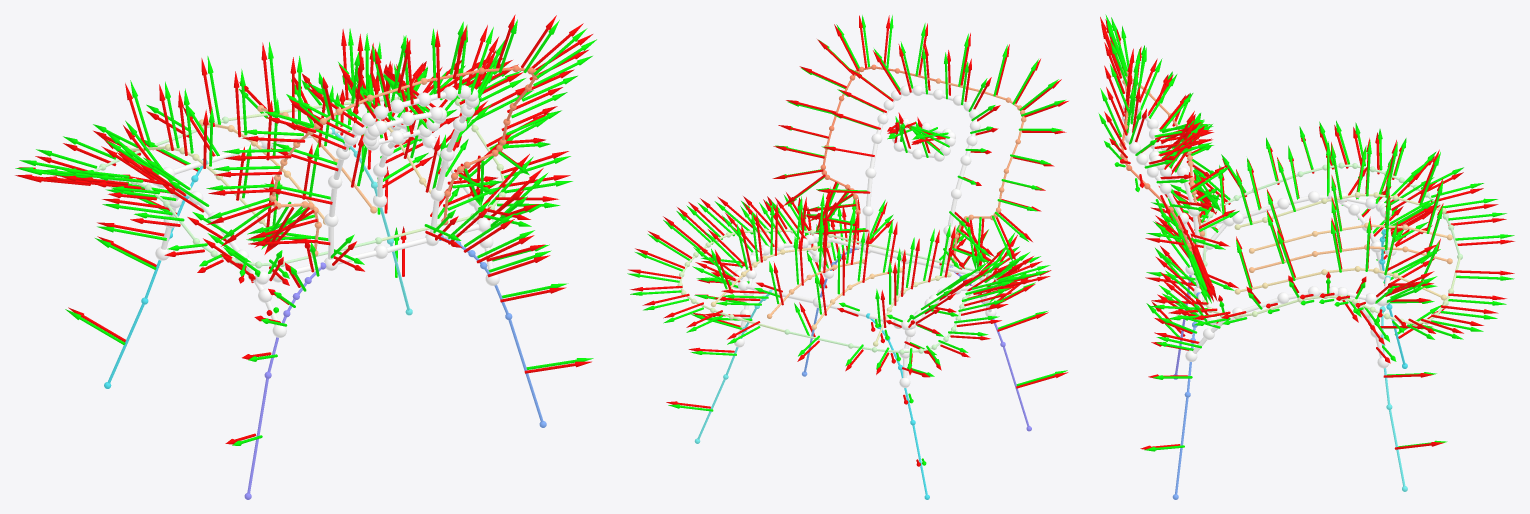
File: author1_chair.gltf
The picture shows the model from 3 angles, left to right: view 1: azimuth 30°, elevation 25°; view 2: azimuth 150°, elevation 25°; view 3: azimuth 270°, elevation 25°; orthographic projection. The views are drawn at different scales.
Bounding box in the file's own units: 0.7504 × 0.7106 × 0.6919.
